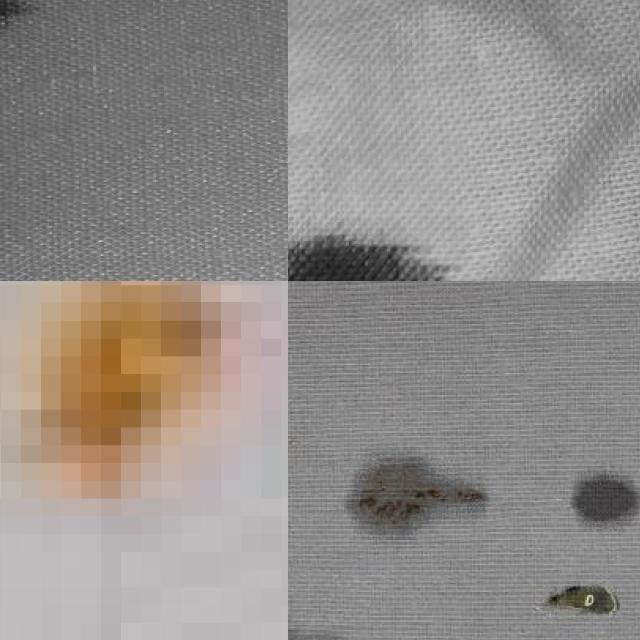Hole: (0, 281, 285, 540), (320, 404, 514, 566), (288, 155, 457, 281), (539, 411, 640, 545), (525, 565, 640, 640)
